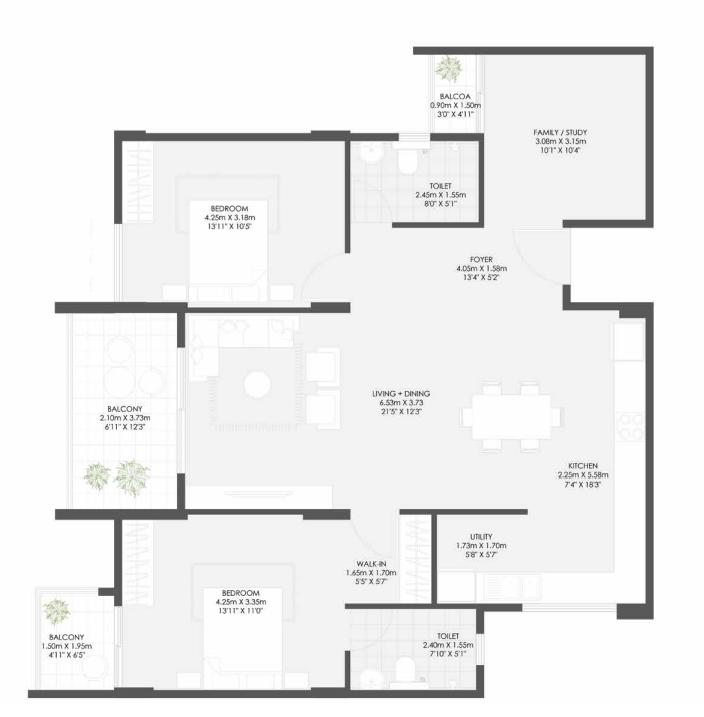Balcony: (63, 309, 180, 515), (38, 592, 118, 694)
Bedroom: (120, 519, 345, 691), (119, 139, 345, 306)
Dining Room: (437, 311, 574, 510)
Dining table: (462, 377, 566, 469)
Foyer: (348, 224, 570, 307)
Kitchen: (538, 308, 649, 602)
Living Room: (183, 310, 436, 510)
balcoa: (428, 55, 483, 135)
fridge: (609, 321, 645, 362)
study: (486, 57, 646, 221)
toilet: (345, 610, 477, 694), (350, 140, 482, 223)
utility: (436, 514, 533, 602)
walkin: (346, 516, 432, 604)
washing-machine: (437, 570, 477, 603)
